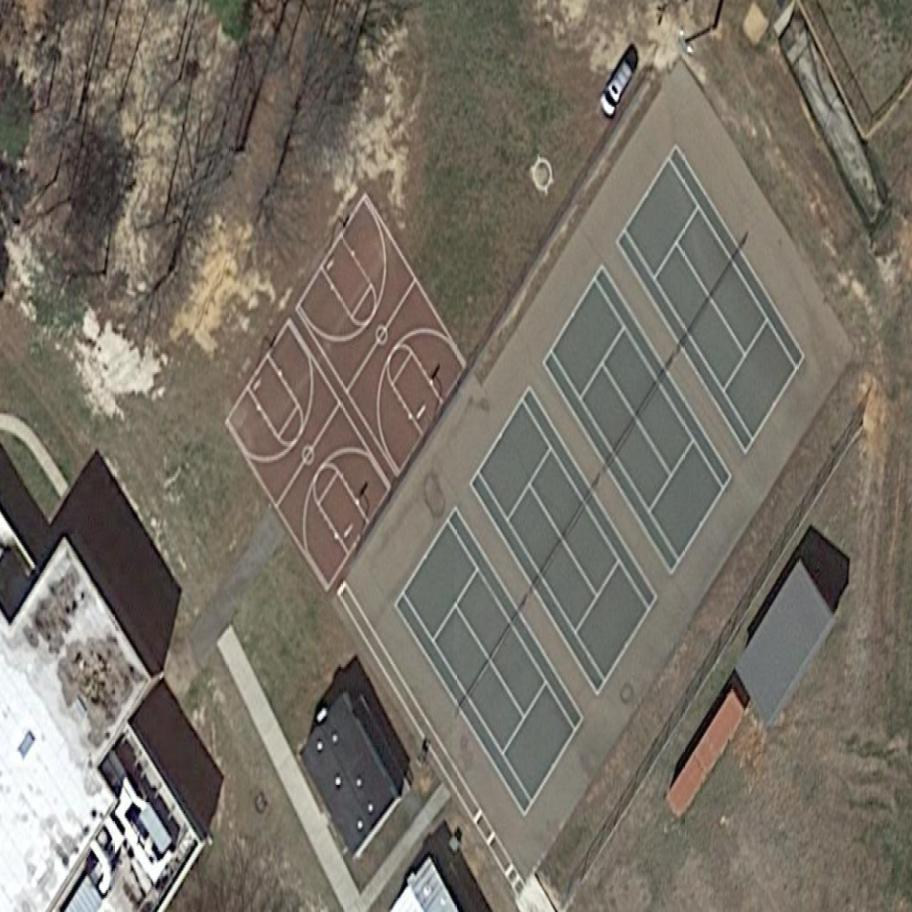small-vehicle: (589, 51, 647, 127)
